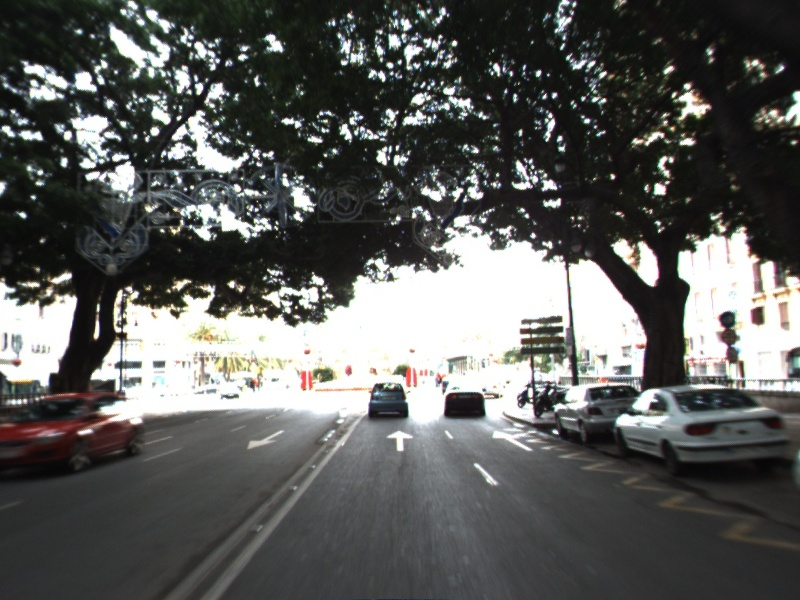STRAIGHT: (490, 428, 535, 453), (384, 429, 415, 453)
